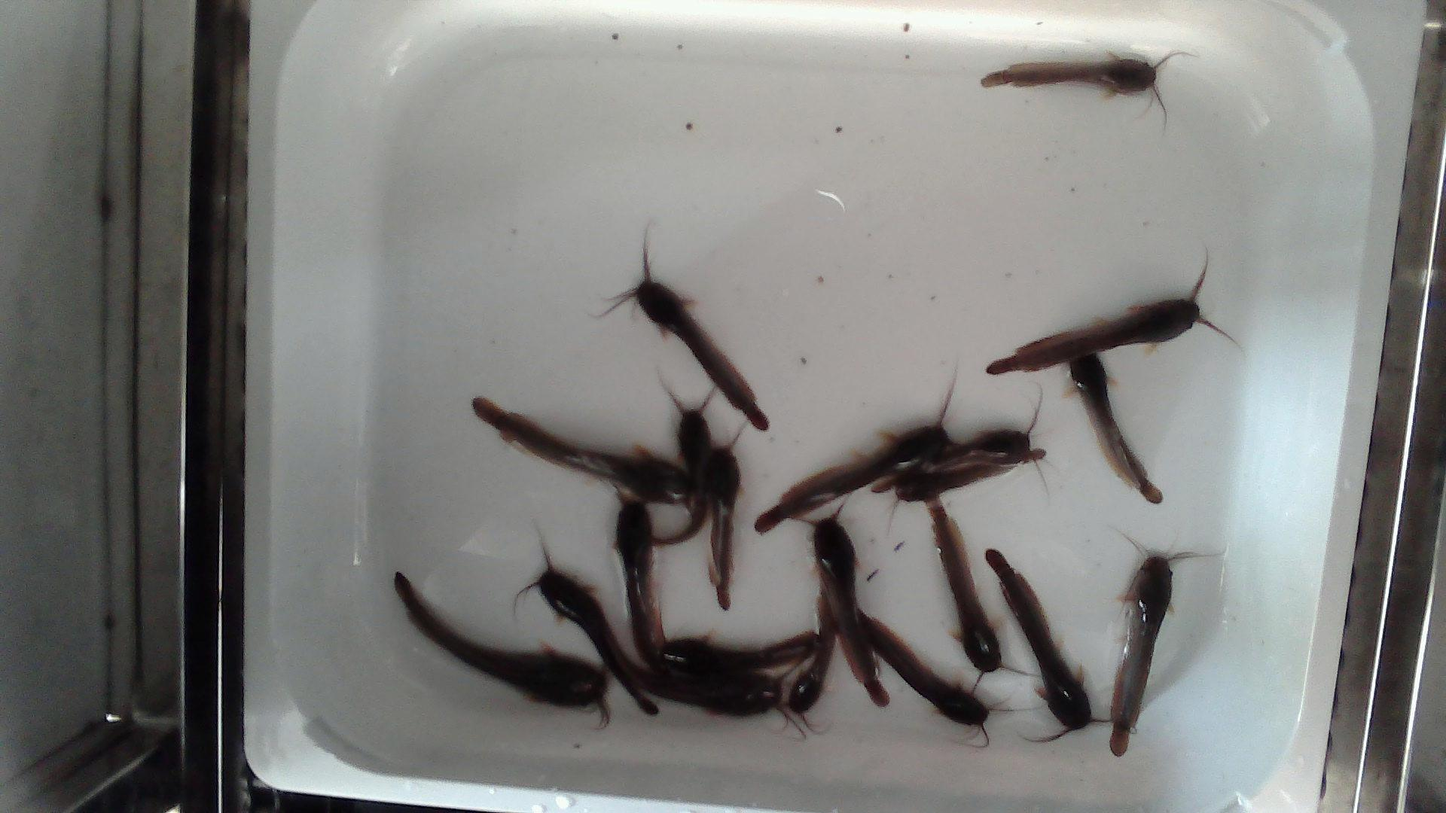lele: (987, 266, 1231, 503), (393, 571, 612, 731), (754, 364, 958, 534), (603, 239, 769, 430), (510, 541, 662, 714), (473, 397, 690, 504), (985, 549, 1094, 741), (609, 635, 808, 739), (798, 501, 886, 705), (858, 611, 990, 744), (926, 500, 1017, 691), (873, 394, 1043, 494), (1109, 553, 1189, 756), (612, 494, 698, 680), (1070, 355, 1161, 503), (652, 389, 714, 545), (891, 452, 1043, 513), (981, 53, 1178, 95), (784, 595, 835, 734), (660, 630, 817, 674), (700, 444, 740, 608)
